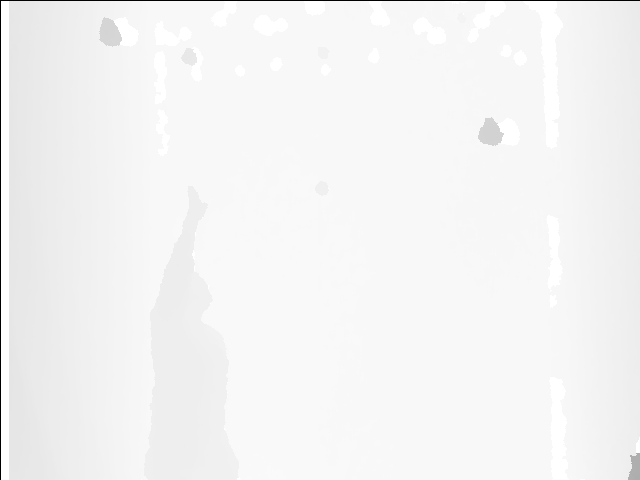hand: (183, 184, 212, 225)
